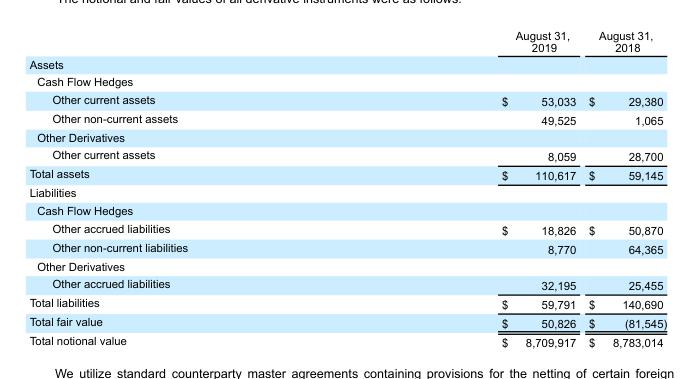table: (28, 28, 666, 348)
table column: (28, 28, 344, 348), (344, 28, 581, 348), (581, 28, 666, 348)
table column header: (28, 28, 666, 55)
table projected row header: (28, 72, 666, 90), (28, 183, 666, 201), (28, 55, 666, 72), (28, 128, 666, 145), (28, 201, 666, 218), (28, 257, 666, 274)
table row: (28, 28, 666, 55), (28, 218, 666, 238), (28, 90, 666, 109), (28, 109, 666, 128), (28, 145, 666, 164), (28, 164, 666, 183), (28, 238, 666, 257), (28, 274, 666, 293), (28, 293, 666, 312), (28, 312, 666, 331), (28, 72, 666, 90), (28, 183, 666, 201), (28, 55, 666, 72), (28, 128, 666, 145), (28, 201, 666, 218), (28, 257, 666, 274), (28, 331, 666, 348)
